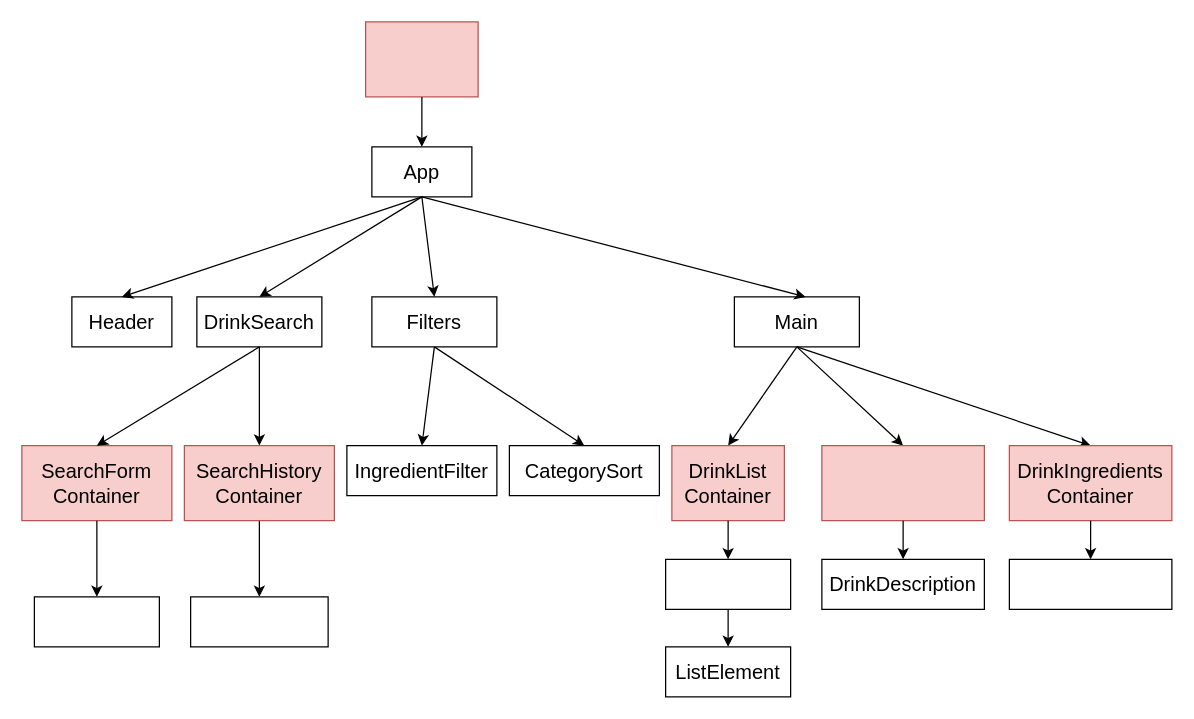
This 1194x719 diagram has some shape labels left out. Here are the shapes that lost their labels. From the top down, the box of each, then its label:
(364, 21, 478, 97): App Container
(821, 444, 984, 521): DrinkDescription Container
(664, 558, 791, 609): DrinkList
(1008, 558, 1172, 609): DrinkIngredients
(33, 596, 159, 647): SearchForm
(189, 596, 328, 647): SearchHistory
